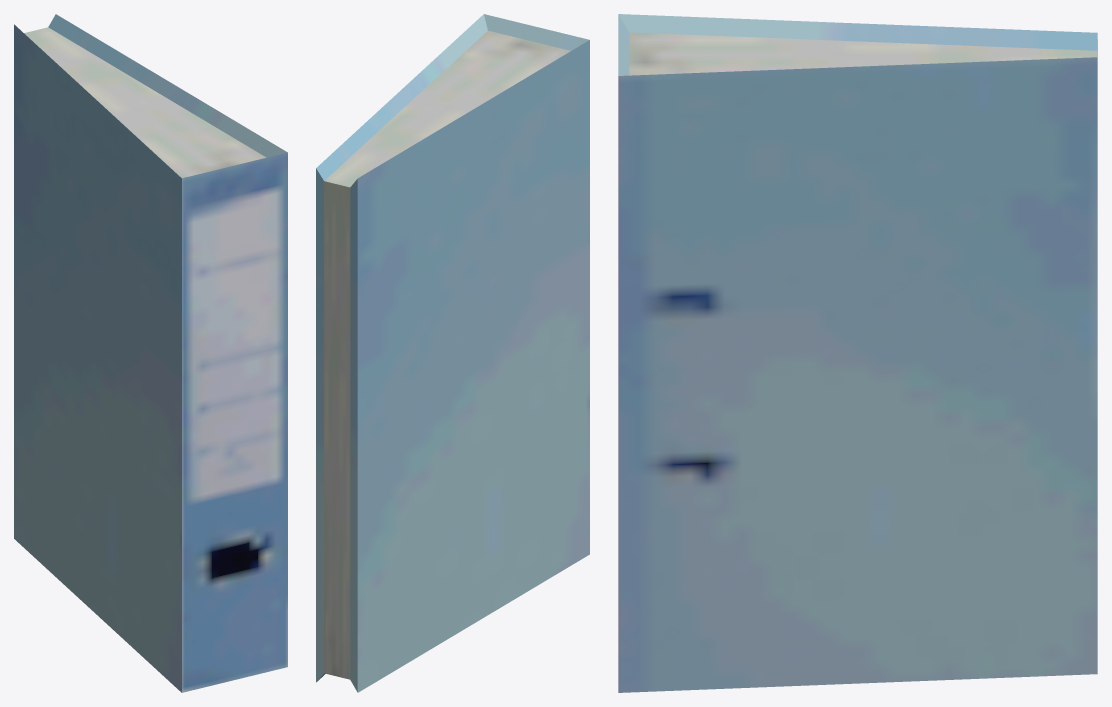
The model's file is file_binder_alt3.obj.
3 renders of one model, left to right at view 1: azimuth 30°, elevation 25°; view 2: azimuth 150°, elevation 25°; view 3: azimuth 270°, elevation 25°, orthographic. The views are drawn at different scales.
Parts seen in each view (by area): view 1: file_binder_alt3; view 2: file_binder_alt3; view 3: file_binder_alt3.
Part boxes in pixels (left/top/right/bottom): file_binder_alt3: left=14, top=14, right=287, bottom=692; file_binder_alt3: left=316, top=14, right=589, bottom=692; file_binder_alt3: left=618, top=14, right=1097, bottom=692.
Size of the model in its own units: 0.0911 by 0.4225 by 0.2975.
